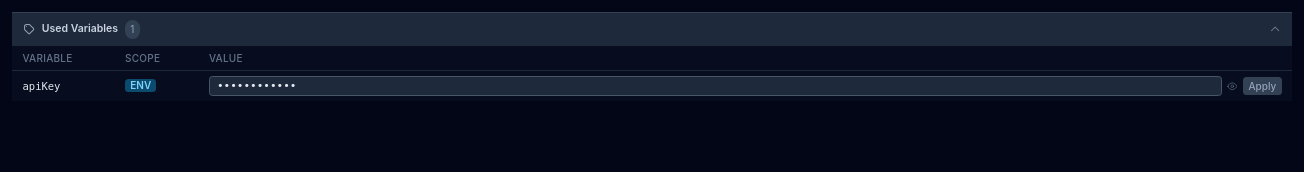
Scenario: UsedVariablesSection — secret masking › reveals the value (type becomes "text") when the eye button is clicked
The image size is (1304, 172).
Click the button named "Reveal value" at (1233, 86), box [1226,79,1240,93]
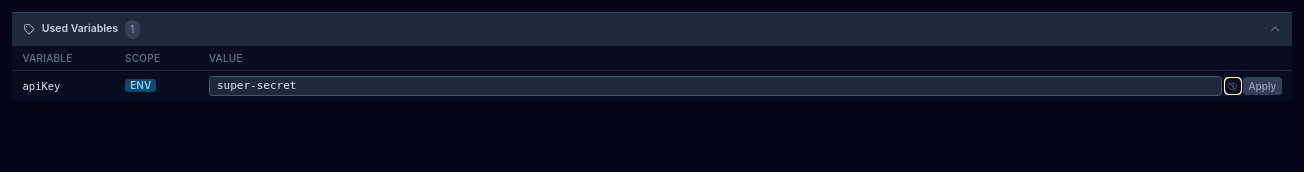
Expected: the field showing "super-secret" shows its text, [209,76,1222,96]
